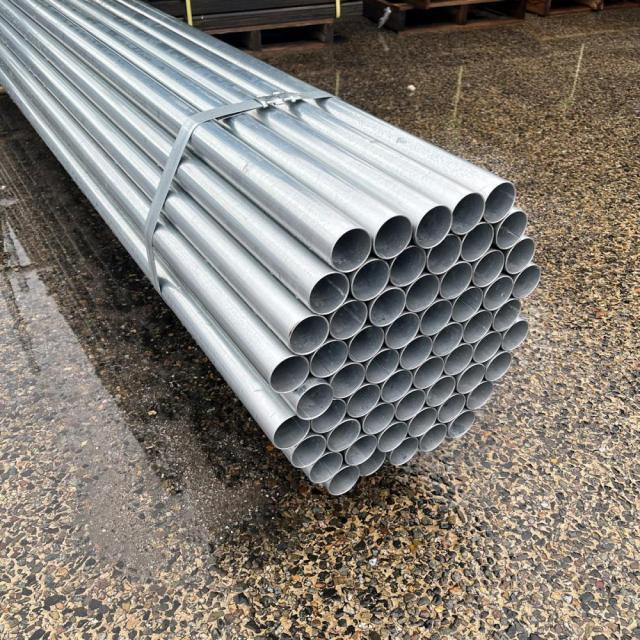pipe: (328, 223, 373, 278), (307, 270, 352, 319), (375, 209, 415, 263), (267, 353, 310, 397), (293, 380, 337, 423), (352, 256, 390, 304), (415, 201, 452, 250), (287, 312, 328, 356), (329, 297, 370, 341), (390, 243, 428, 289), (484, 179, 520, 226), (451, 190, 486, 238), (288, 432, 328, 473), (495, 207, 531, 252), (310, 339, 349, 380), (369, 285, 406, 328), (460, 219, 496, 263), (427, 232, 462, 276), (306, 450, 345, 489), (348, 322, 385, 362), (271, 415, 312, 451), (309, 397, 347, 435), (440, 258, 475, 299), (330, 360, 365, 400), (406, 271, 440, 312), (386, 309, 420, 349), (474, 246, 505, 288), (326, 416, 362, 452), (366, 347, 400, 385), (346, 381, 380, 419), (452, 283, 484, 323), (399, 333, 433, 370), (421, 297, 453, 336), (507, 234, 537, 275), (483, 273, 515, 311), (514, 262, 546, 300), (492, 297, 527, 331), (327, 465, 361, 500), (361, 400, 395, 435), (433, 319, 464, 357), (381, 367, 413, 402), (344, 433, 378, 465), (413, 354, 445, 388), (395, 387, 427, 421), (464, 308, 494, 344), (500, 319, 532, 352), (377, 418, 409, 451), (448, 408, 480, 441), (389, 435, 421, 467), (443, 341, 473, 374), (485, 352, 518, 382), (408, 405, 438, 438), (474, 329, 503, 362), (427, 373, 456, 406), (456, 362, 486, 393), (466, 378, 495, 410), (438, 391, 466, 423), (420, 422, 446, 455), (359, 449, 387, 479)
